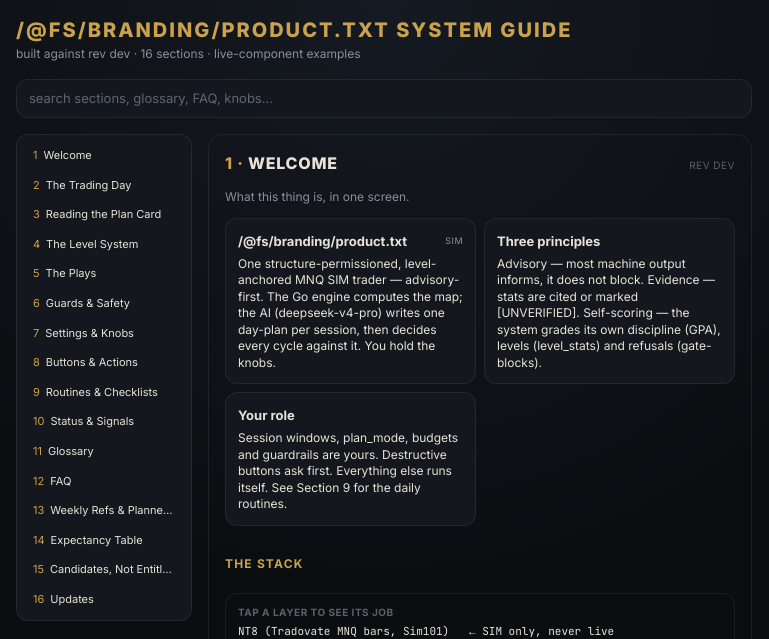
Test: GuidePage › search with no matches says so
The width and height of the screenshot is (769, 639).
Type "zzzzqqqq" into the search field with test id "guide-search" at coordinates (384, 99), box [16,79,752,118]
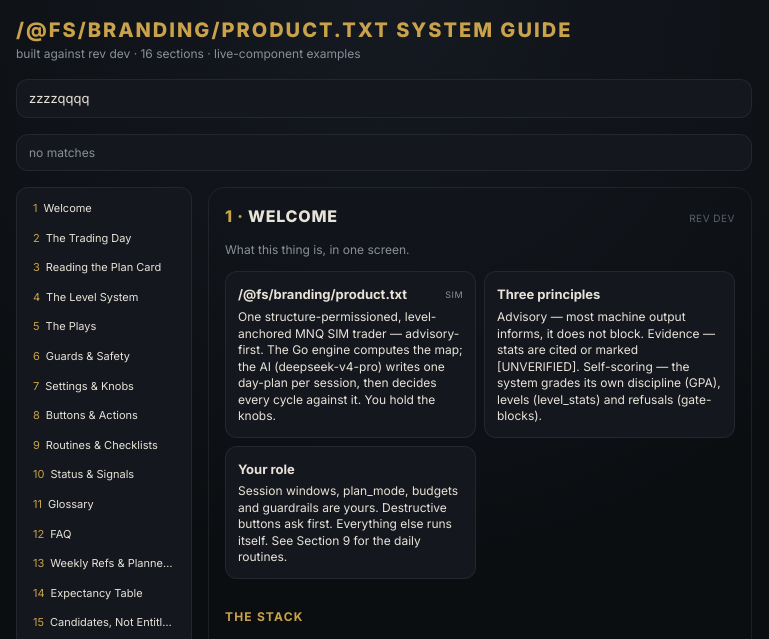
Check: the text "no matches" is shown, box [29,145,95,160]
